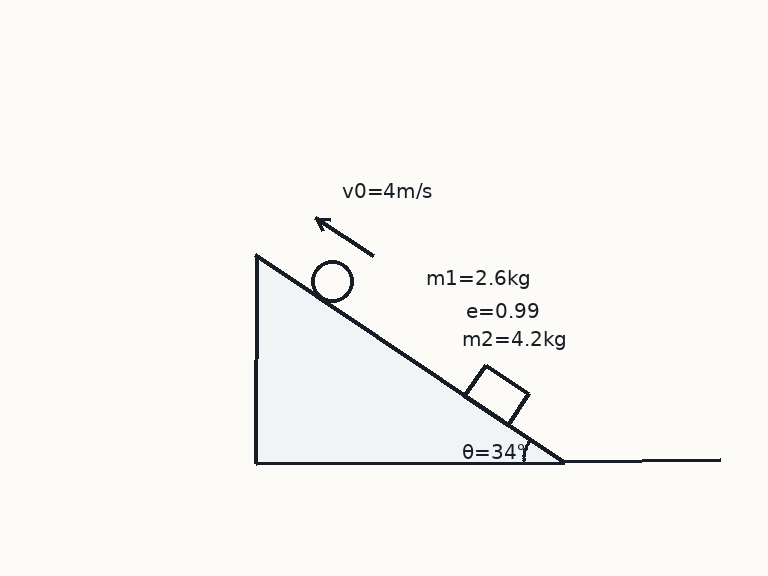ball: (309, 258, 355, 304)
block: (463, 363, 530, 426)
ramp: (253, 253, 565, 464)
